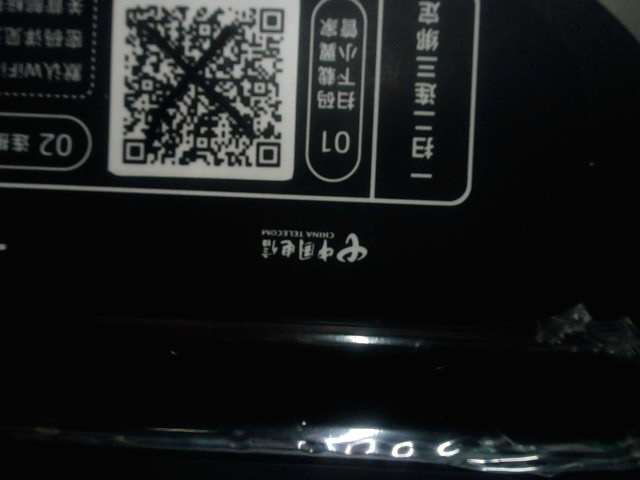AB_ChinaTelecom: (254, 226, 375, 263)
